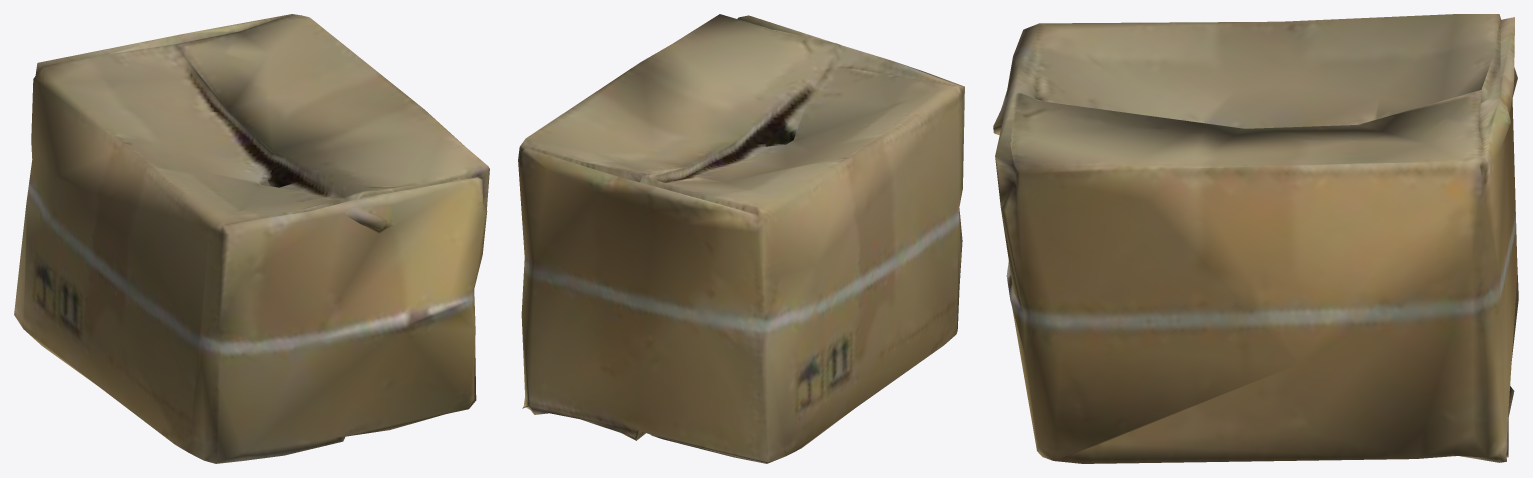
File: box-cardboard.glb
3 views of the same model, side by side, from view 1: azimuth 30°, elevation 25°; view 2: azimuth 150°, elevation 25°; view 3: azimuth 270°, elevation 25° (orthographic). The views are drawn at different scales.
Parts seen in each view (by area): view 1: cardboard_box_01; view 2: cardboard_box_01; view 3: cardboard_box_01.
Boxes of the visible parts, x1,y1,x2,y2 form: cardboard_box_01: (14,14,489,463); cardboard_box_01: (518,14,964,463); cardboard_box_01: (993,14,1518,463).
Size of the model in its own units: 0.383 by 0.3394 by 0.5159.
Materials: 1 (1 with a texture image).
